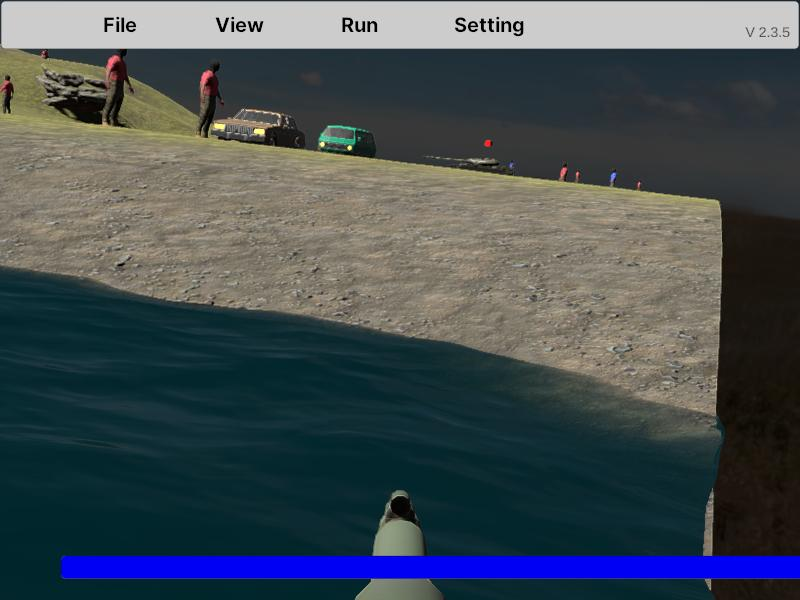Human: (101, 46, 133, 130), (196, 61, 224, 145)
car: (210, 108, 305, 152), (319, 125, 376, 160)
